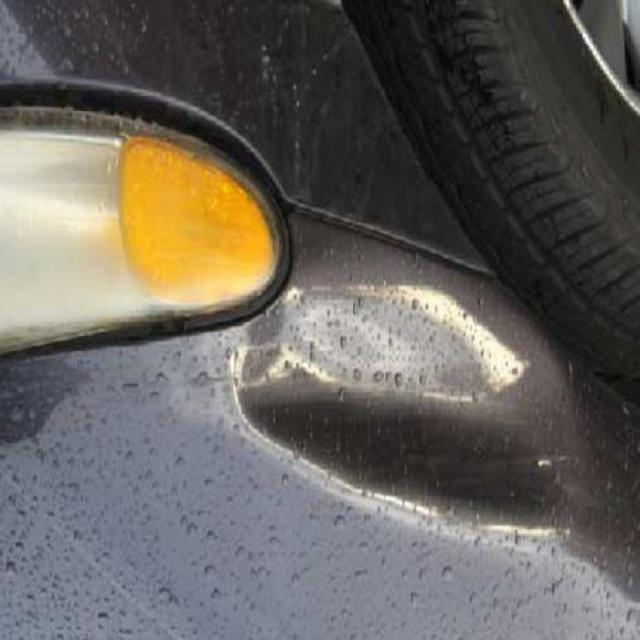dent: (222, 228, 602, 553)
